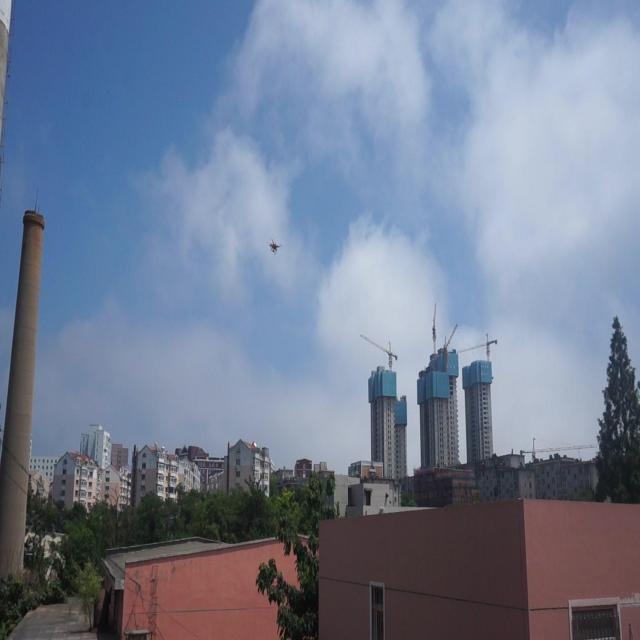UAV: (266, 237, 284, 256)
